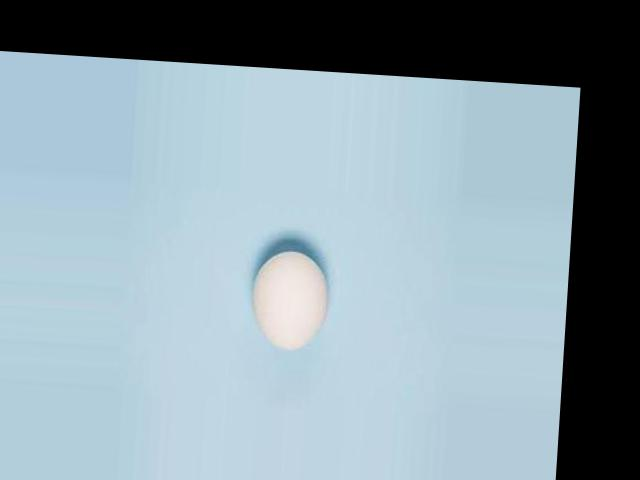egg: (249, 249, 331, 352)
